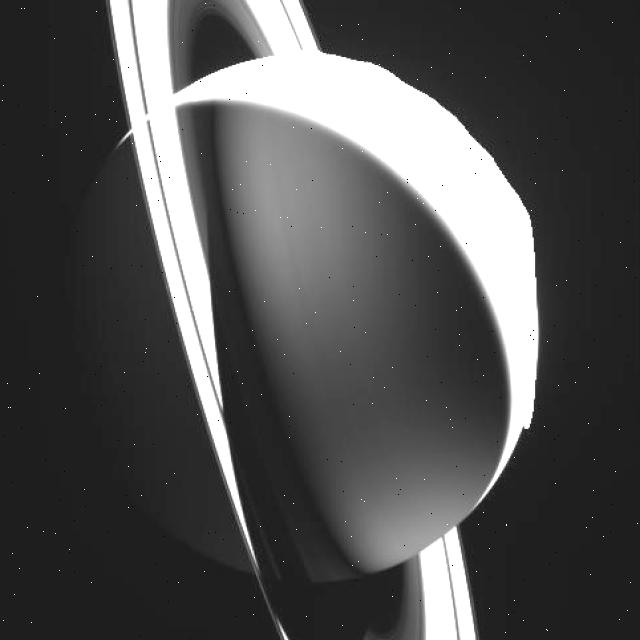Saturn: (109, 0, 516, 640)
